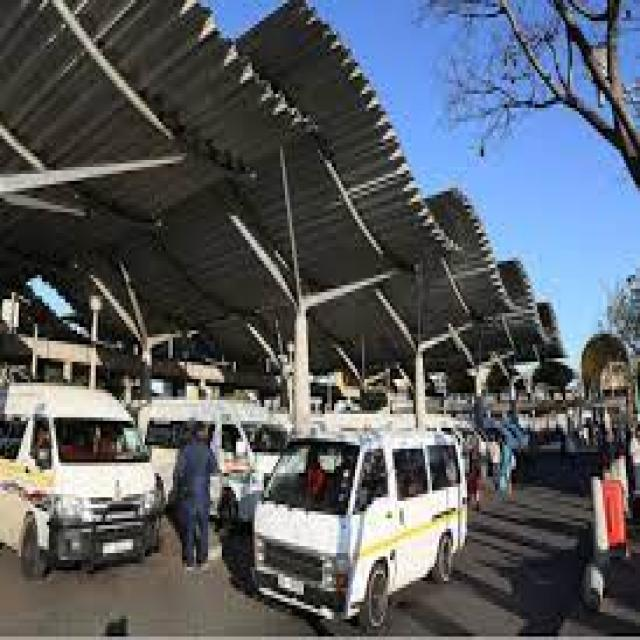MiniBus taxi: (254, 442, 486, 626), (2, 362, 159, 581)
Pedestrians: (180, 417, 219, 581)
